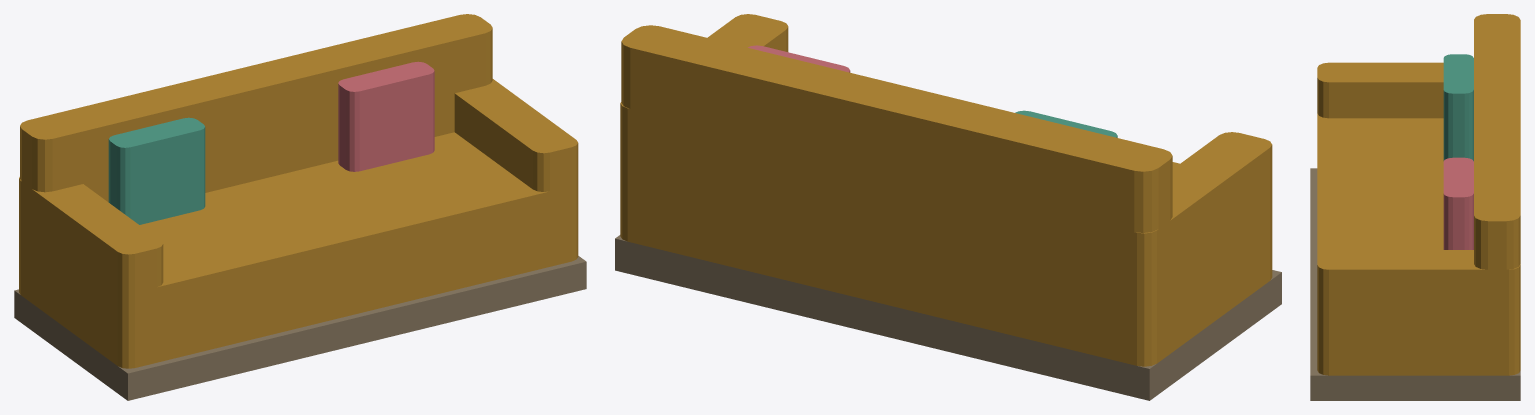
The model's file is city_sofa.glb.
3 views of the same model, side by side, from view 1: azimuth 30°, elevation 25°; view 2: azimuth 150°, elevation 25°; view 3: azimuth 270°, elevation 25° (orthographic). The views are drawn at different scales.
Visible parts, largest first — view 1: CitySofa_Seat, CitySofa_Back, CitySofa_Arm-1.05, CitySofa_Plinth, CitySofa_Arm0.85, CitySofa_Cushion1, CitySofa_Cushion0; view 2: CitySofa_Back, CitySofa_Arm-1.05, CitySofa_Plinth, CitySofa_Arm0.85, CitySofa_Cushion1, CitySofa_Cushion0; view 3: CitySofa_Arm0.85, CitySofa_Seat, CitySofa_Back, CitySofa_Arm-1.05, CitySofa_Plinth, CitySofa_Cushion0, CitySofa_Cushion1.
Boxes of the visible parts, x1,y1,x2,y2 form: CitySofa_Seat: [140, 132, 558, 364]; CitySofa_Back: [20, 14, 492, 302]; CitySofa_Arm-1.05: [19, 177, 163, 368]; CitySofa_Plinth: [14, 256, 586, 400]; CitySofa_Arm0.85: [454, 79, 578, 264]; CitySofa_Cushion1: [338, 61, 434, 171]; CitySofa_Cushion0: [108, 117, 205, 224]; CitySofa_Back: [621, 25, 1172, 362]; CitySofa_Arm-1.05: [1111, 132, 1272, 366]; CitySofa_Plinth: [615, 235, 1281, 400]; CitySofa_Arm0.85: [620, 14, 788, 247]; CitySofa_Cushion1: [748, 45, 850, 72]; CitySofa_Cushion0: [1015, 110, 1117, 137]; CitySofa_Arm0.85: [1317, 250, 1520, 375]; CitySofa_Seat: [1317, 113, 1443, 254]; CitySofa_Back: [1474, 14, 1520, 375]; CitySofa_Arm-1.05: [1317, 62, 1443, 118]; CitySofa_Plinth: [1310, 168, 1520, 400]; CitySofa_Cushion0: [1443, 54, 1473, 161]; CitySofa_Cushion1: [1443, 157, 1473, 249].
Bounding box in the file's own units: 2.1 × 0.85 × 0.9.
